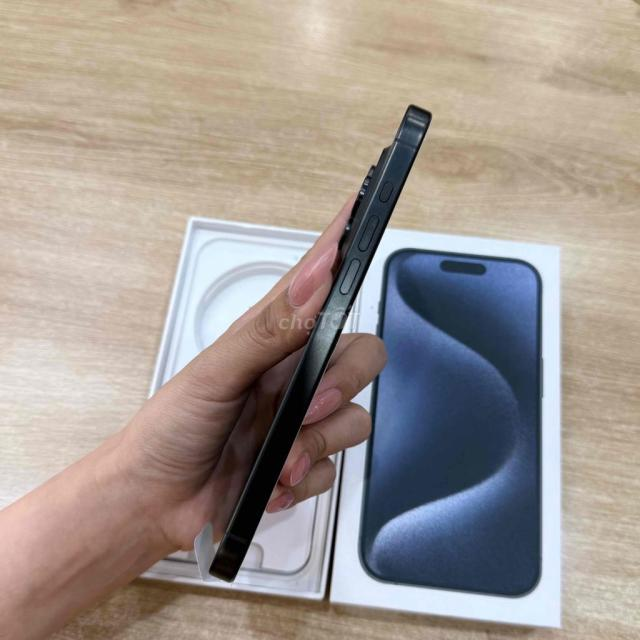gen_15: (191, 91, 441, 577)
